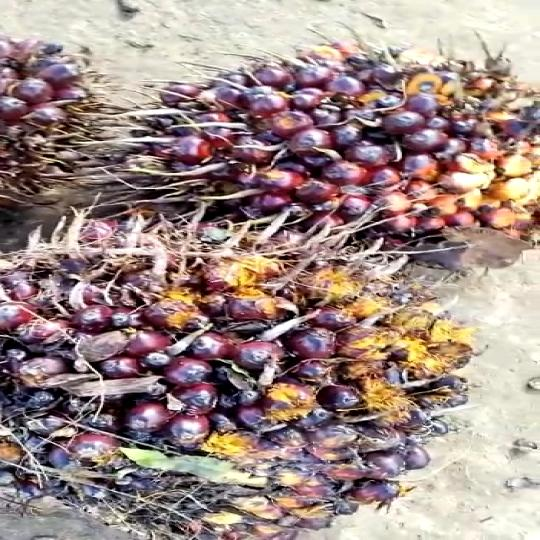masak: (0, 201, 478, 540), (105, 38, 540, 261)
